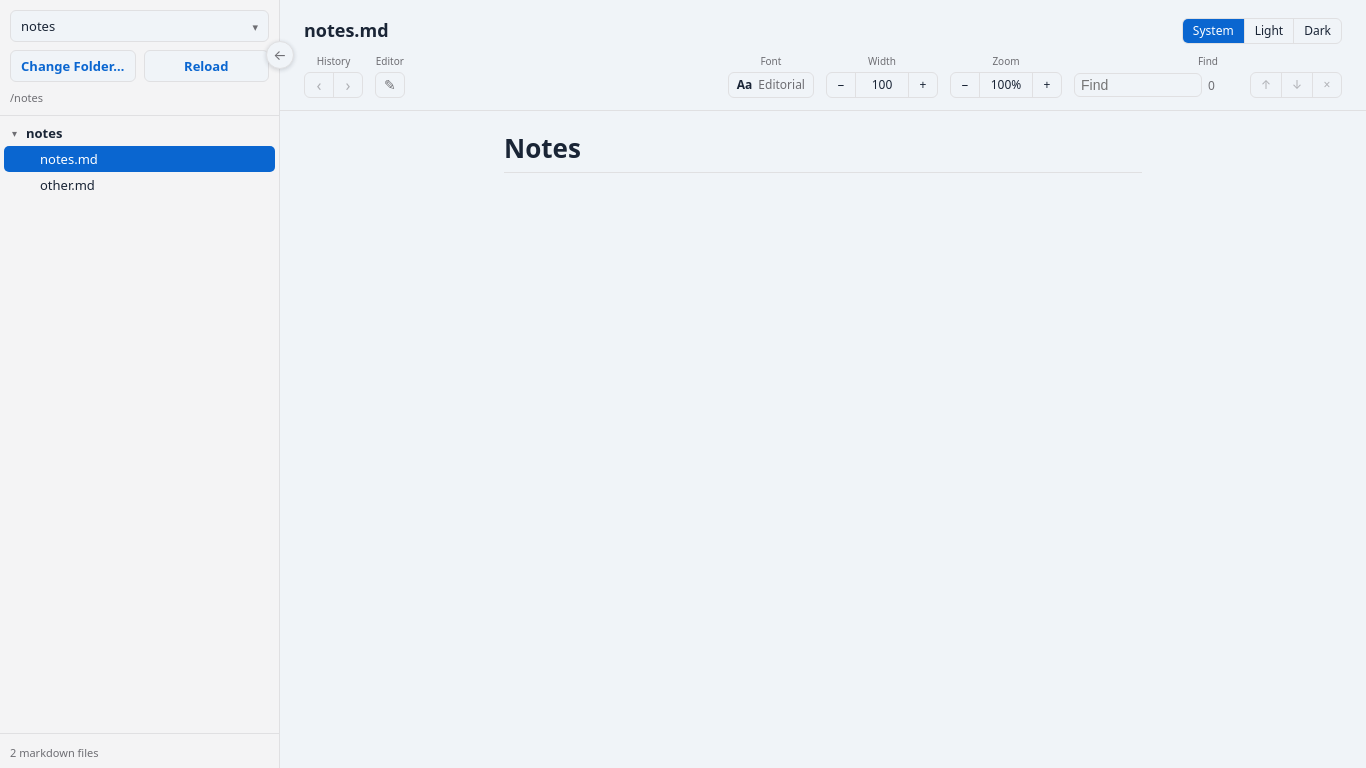
Test: keeps edits when another file is opened and comes back to them
Click the button "✎": [390, 85] box x1=375 y1=72 x2=405 y2=98
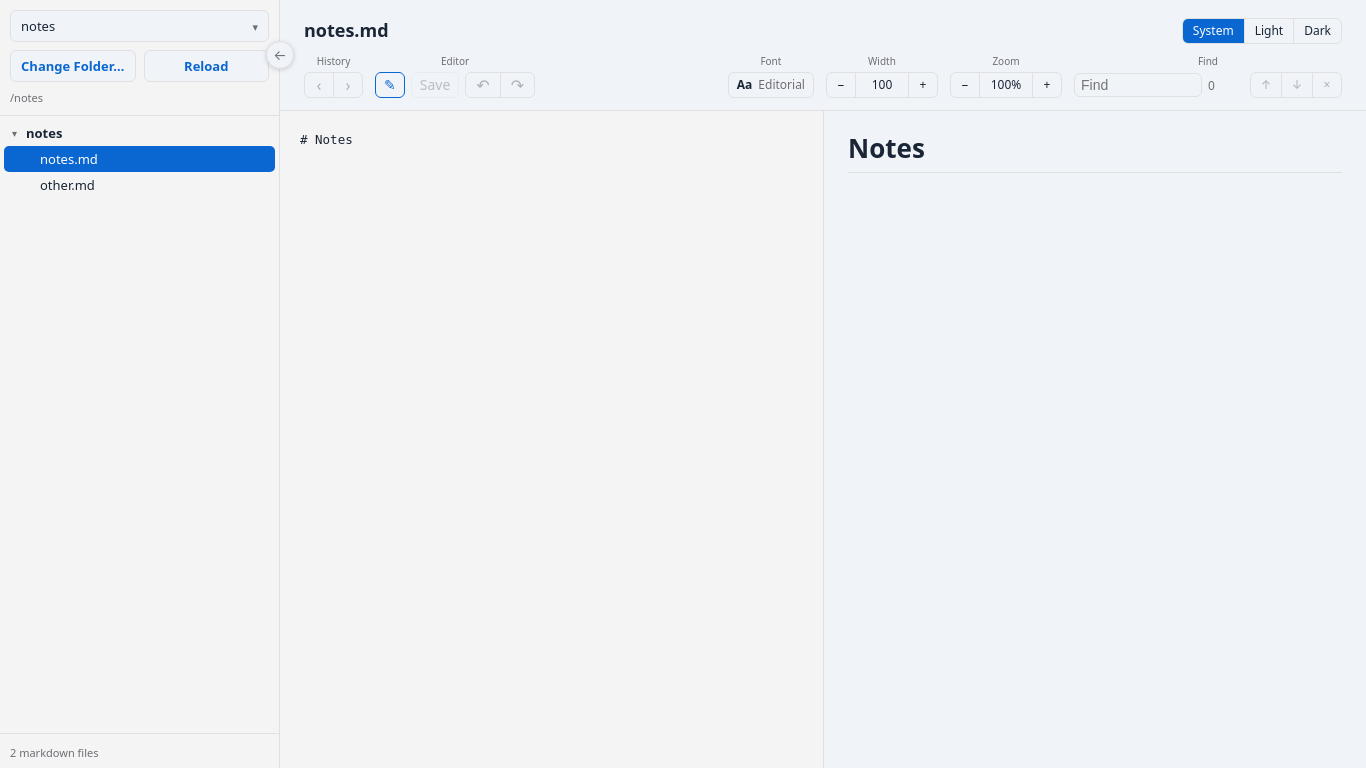
Replace the text in the text box named "Markdown source" with "# Changed": [552, 440] box x1=280 y1=111 x2=823 y2=767
Wait 200 ms
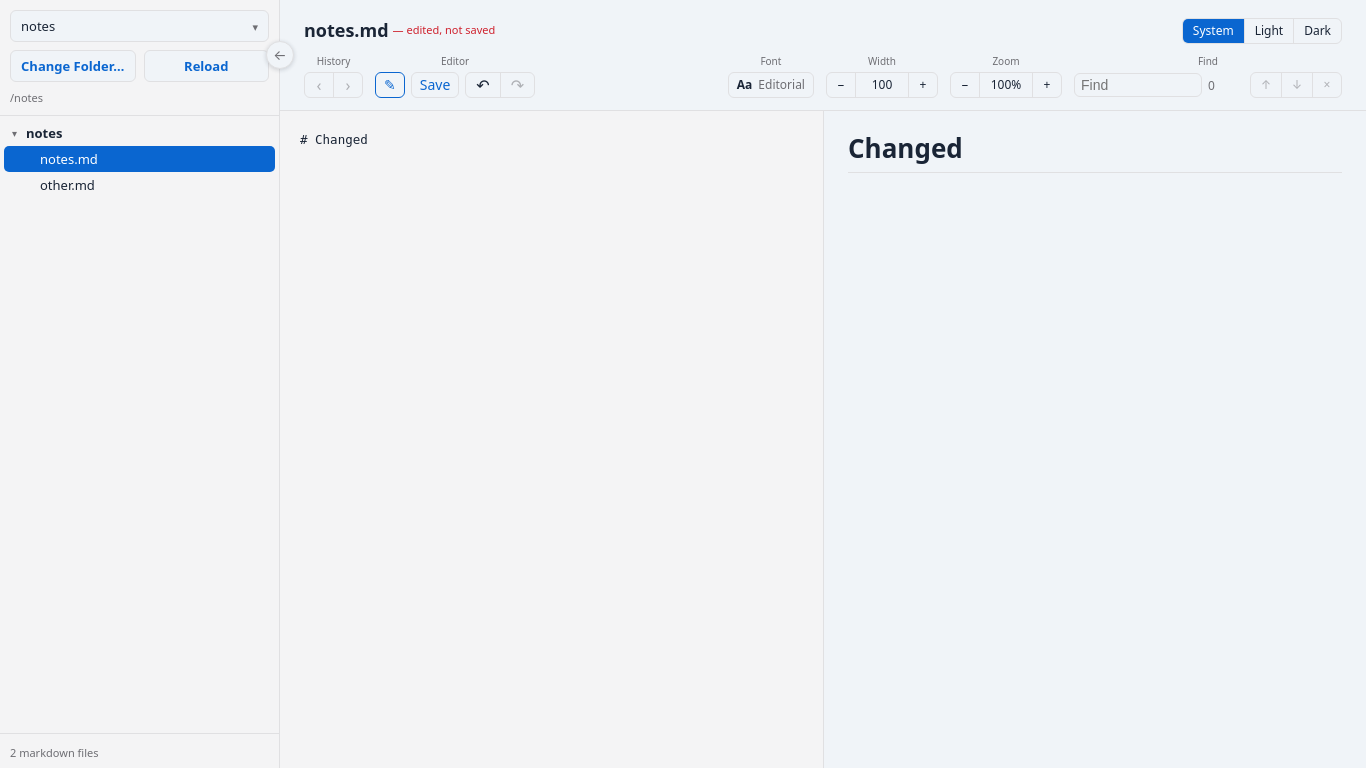
Click the list item "other.md": [67, 185] box x1=4 y1=172 x2=275 y2=198
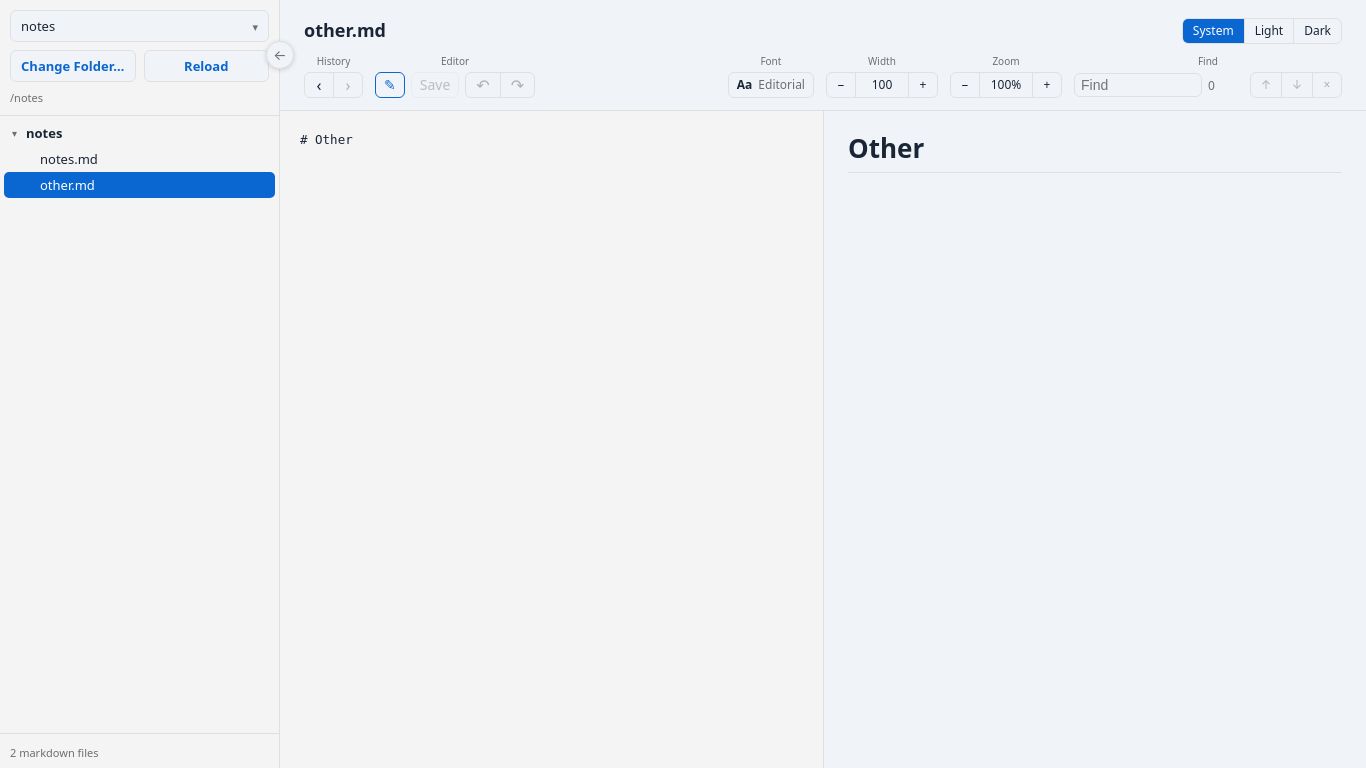
Expected: the text box named "Markdown source" holds "# Other", x1=280 y1=111 x2=823 y2=767
Click the list item "notes.md": [69, 159] box x1=4 y1=146 x2=275 y2=172
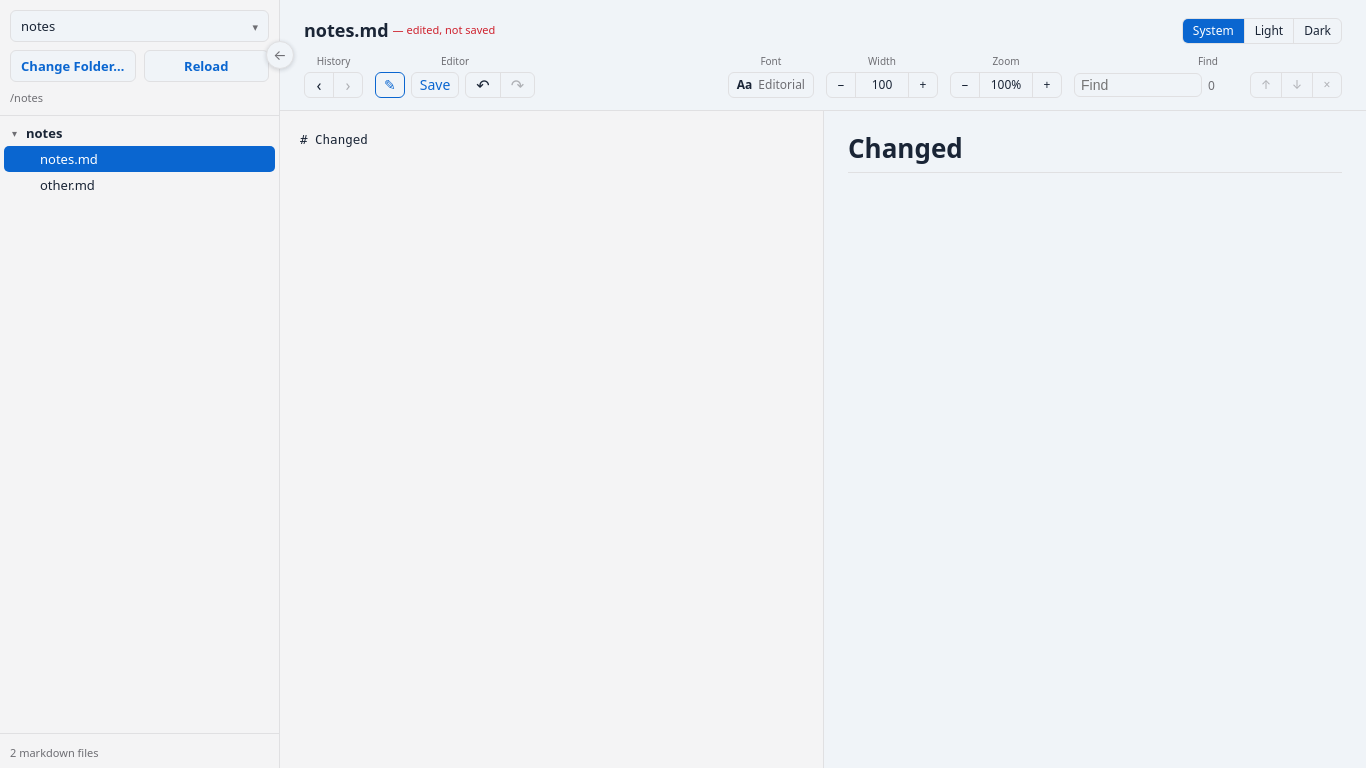
Expected: the text box named "Markdown source" holds "# Changed", x1=280 y1=111 x2=823 y2=767
